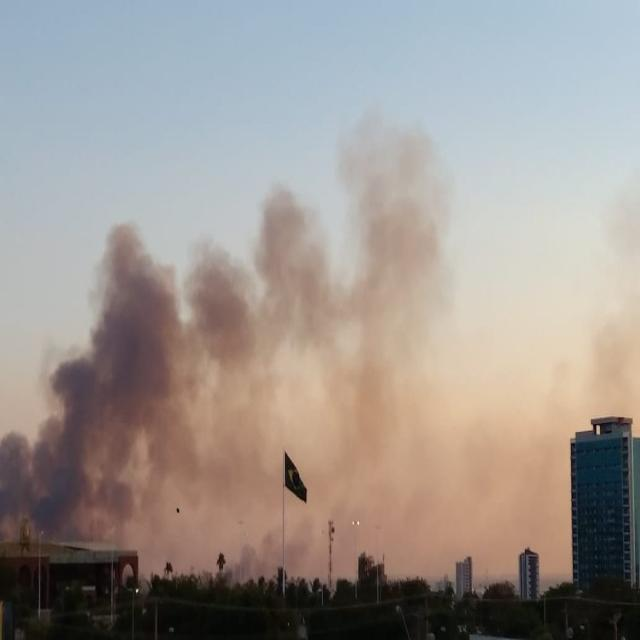Smoke: (8, 153, 640, 618)
